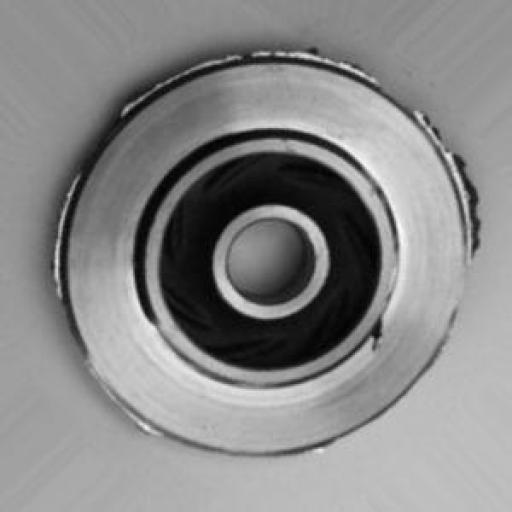defect: (36, 30, 487, 462)
